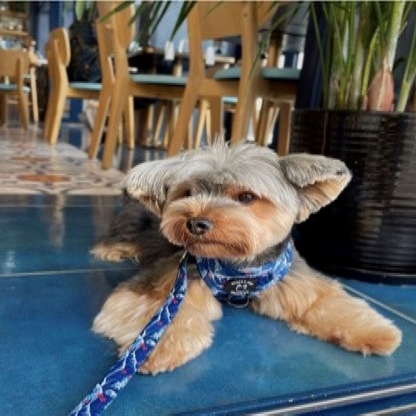yorkshire: (103, 136, 407, 373)
